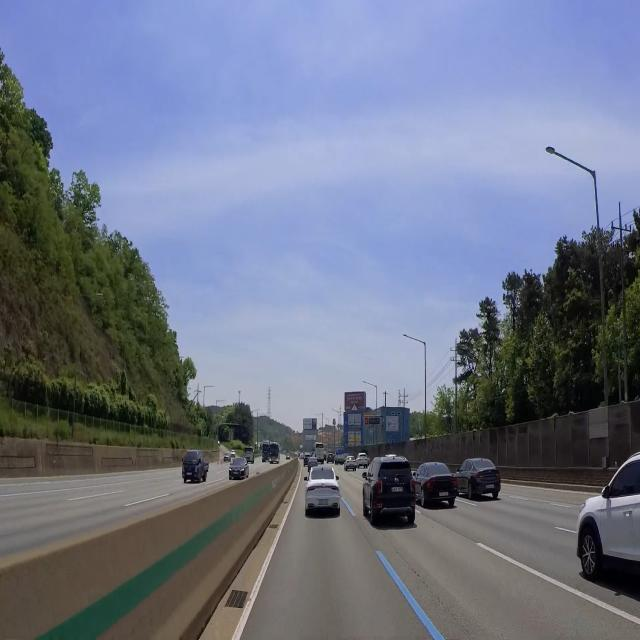car: (389, 481, 406, 501), (315, 496, 335, 512), (436, 490, 458, 504), (484, 482, 499, 493), (184, 471, 196, 478), (233, 469, 241, 479)
